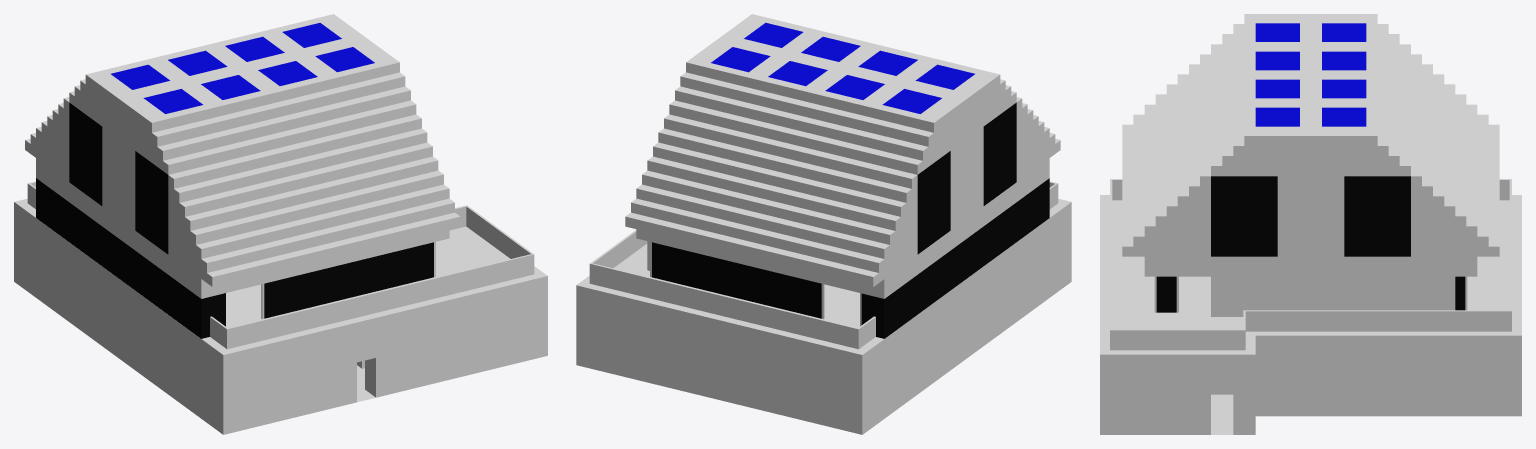
The model's file is house.glb.
3 renders of one model, left to right at view 1: azimuth 30°, elevation 25°; view 2: azimuth 150°, elevation 25°; view 3: azimuth 270°, elevation 25°, orthographic.
Visible parts, largest first — view 1: first, Cube.002, second, Cube.004, Cube.006, Cube.003; view 2: Cube.003, first, second, Cube.004, Cube.006, Cube.002; view 3: second, first, Cube.002, Cube.003, Cube.004, Cube.006, Plane.002.
Part boxes in pixels (bbox=[...]): first: bbox=[14, 198, 547, 434]; Cube.002: bbox=[146, 58, 460, 286]; second: bbox=[27, 18, 534, 349]; Cube.004: bbox=[111, 23, 374, 113]; Cube.006: bbox=[133, 32, 352, 104]; Cube.003: bbox=[25, 14, 338, 157]; Cube.003: bbox=[625, 58, 939, 286]; first: bbox=[576, 198, 1071, 434]; second: bbox=[589, 18, 1058, 349]; Cube.004: bbox=[711, 22, 974, 113]; Cube.006: bbox=[733, 32, 952, 104]; Cube.002: bbox=[747, 14, 1060, 157]; second: bbox=[1110, 14, 1511, 350]; first: bbox=[1100, 195, 1521, 434]; Cube.002: bbox=[1122, 14, 1255, 256]; Cube.003: bbox=[1366, 14, 1499, 256]; Cube.004: bbox=[1255, 23, 1366, 126]; Cube.006: bbox=[1255, 23, 1366, 126]; Plane.002: bbox=[1211, 394, 1233, 434].
Bounding box in the file's own units: 17 × 13 × 19.
